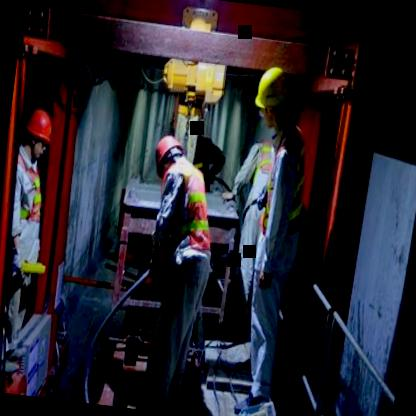helmet: (248, 62, 300, 132), (18, 105, 56, 165), (150, 133, 186, 175)
